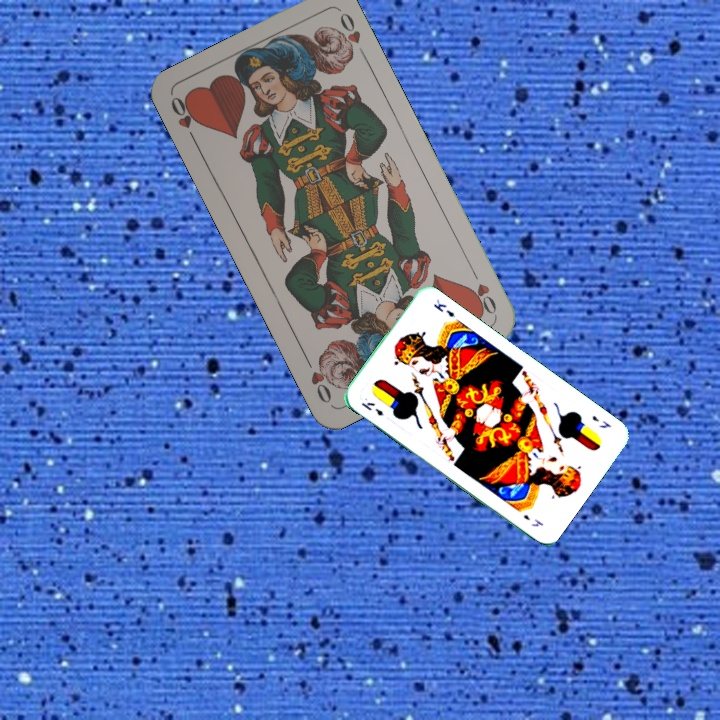EK: (358, 398, 386, 419), (588, 411, 614, 431)
HO: (166, 92, 202, 148), (464, 266, 500, 321)
